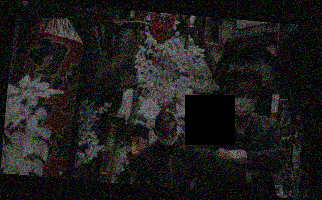mask_weared_incorrect: (159, 125, 179, 148)
with_mask: (229, 86, 259, 118)
